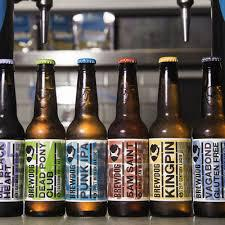beer: (1, 59, 225, 220)
